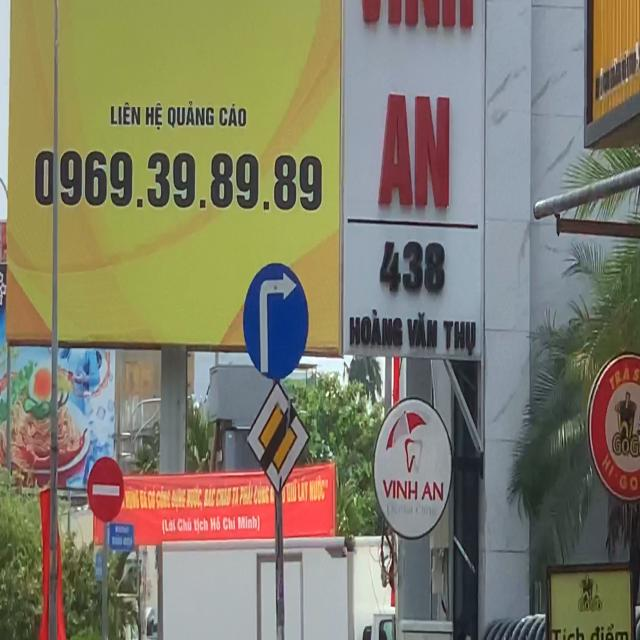Cam nguoc chieu: (87, 456, 124, 524)
Re phai: (243, 262, 309, 380)
